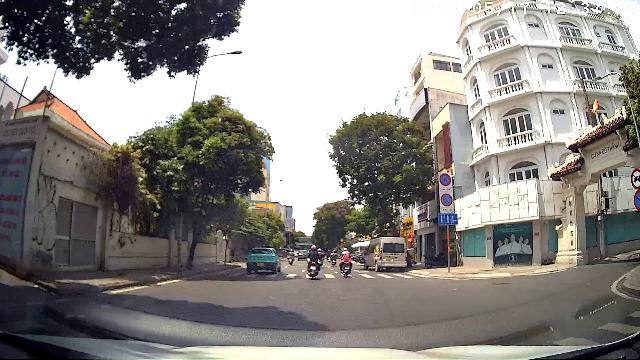130-cam-dung-va-do-xe: (439, 173, 451, 186)
131a-cam-do-xe: (441, 193, 453, 207)
